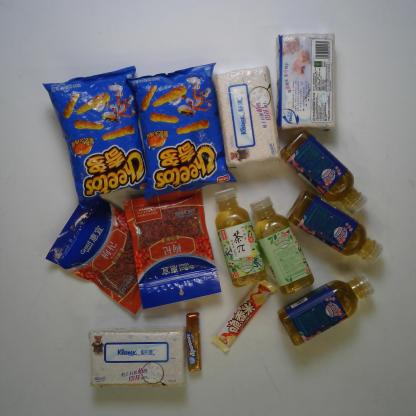Candy: (185, 313, 204, 373)
Chocolate: (212, 278, 276, 356)
Dried Fruit: (123, 184, 222, 308), (47, 194, 143, 316)
Drink: (282, 130, 371, 214), (276, 275, 375, 348), (287, 190, 385, 263), (250, 197, 313, 292), (214, 189, 266, 285)
Puffed Food: (44, 66, 153, 208), (128, 61, 238, 200)
Tissue: (214, 66, 281, 168), (87, 326, 186, 390), (274, 32, 336, 134)
